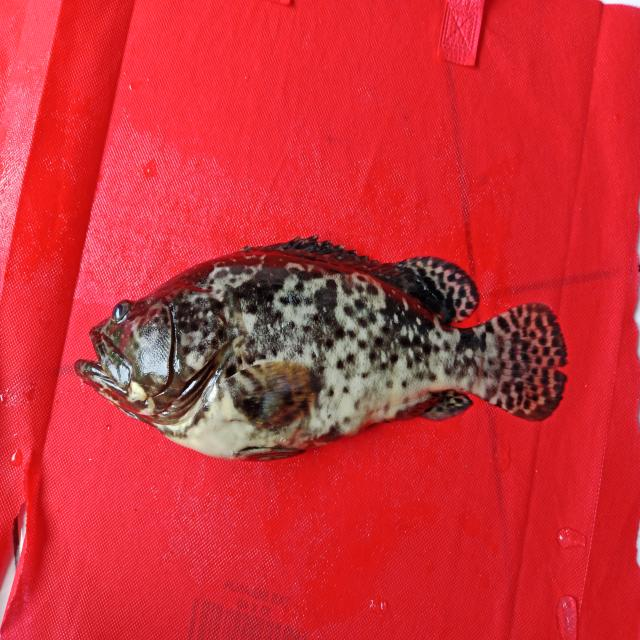ikan: (59, 213, 590, 476)
